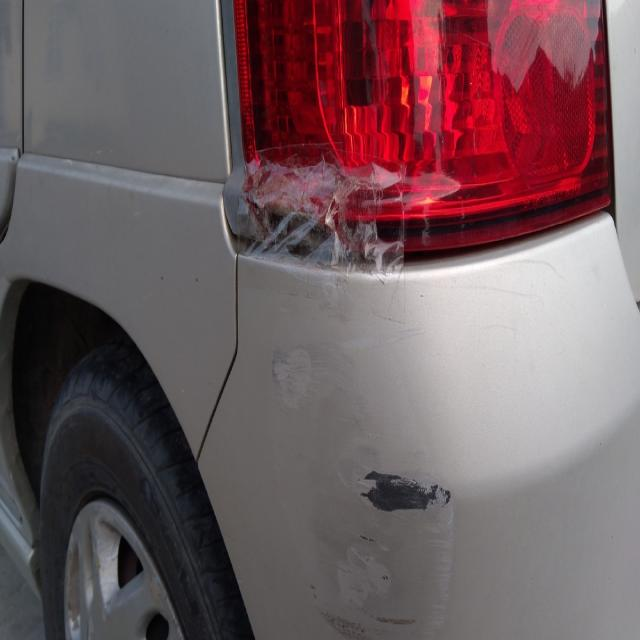scratch: (274, 269, 455, 640)
